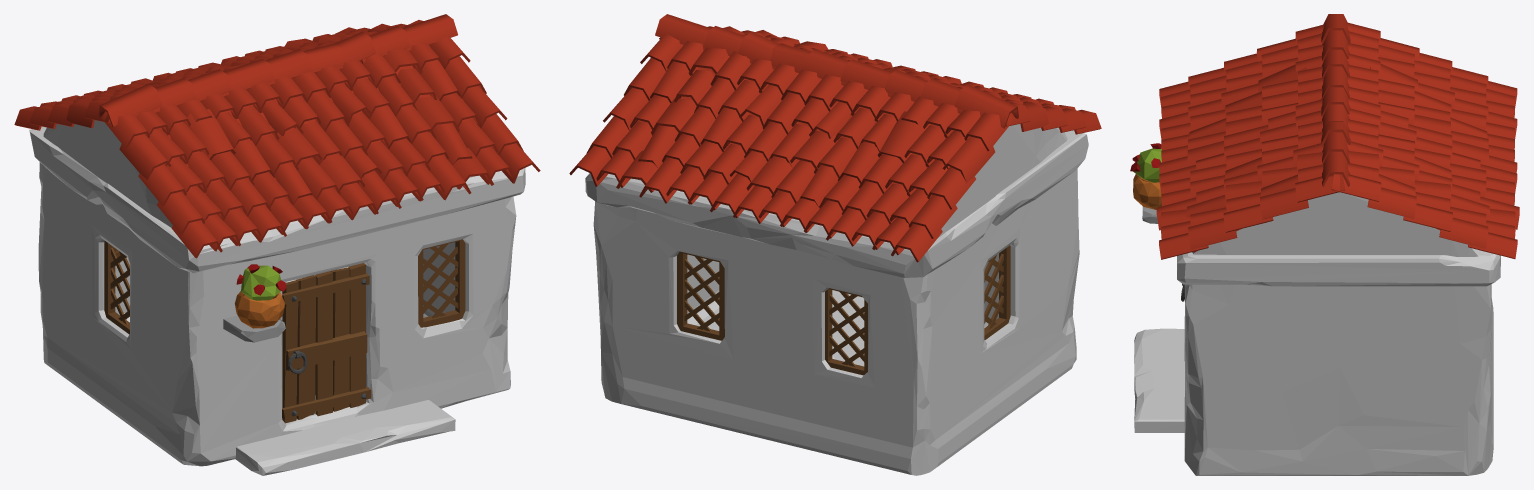
Rendered from SM_building_greek_05.fbx.
The picture shows the model from 3 angles, left to right: view 1: azimuth 30°, elevation 25°; view 2: azimuth 150°, elevation 25°; view 3: azimuth 270°, elevation 25°; orthographic projection. The views are drawn at different scales.
Parts seen in each view (by area): view 1: Object483, Object04122; view 2: Object483; view 3: Object483.
Boxes of the visible parts, x1=… form: Object483: x1=14, y1=14, x2=540, y2=475; Object04122: x1=282, y1=263, x2=371, y2=423; Object483: x1=569, y1=14, x2=1101, y2=475; Object483: x1=1130, y1=14, x2=1519, y2=475.
Size of the model in its own units: 200 by 176 by 199.
